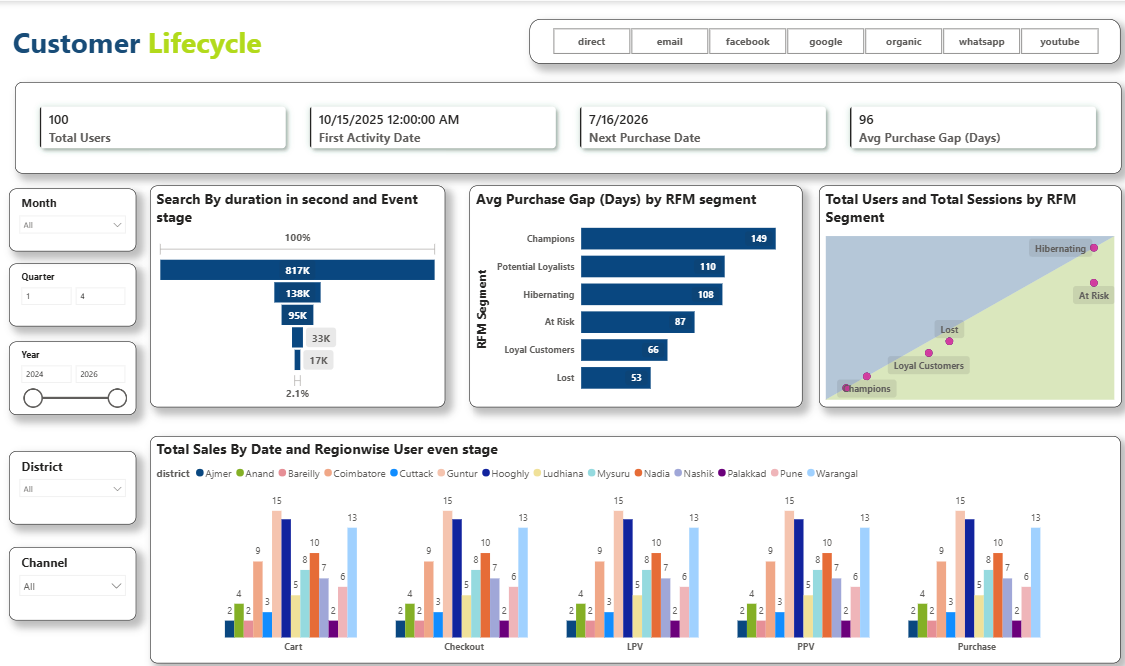

What the dashboard file says about the page in this screenshot:
{"tool":"powerbi","page":{"name":"Customer Lifecycle","canvas":[1500,900],"ordinal":1},"visuals":[{"type":"cardVisual","fields":{"Data":["All Measures.Total Users","All Measures.First Activity Date","All Measures.Next Purchase Date","All Measures.Avg Purchase Gap (Days)"]},"box":[19,106.8,1466.8,121],"z":0},{"type":"textbox","box":[11.9,23.9,648.2,77.5],"z":1000},{"type":"scatterChart","title":"Total Users and Total Sessions by RFM Segment","fields":{"Category":["dim_customers.rfm_segment"],"Series":["dim_utm_metadata.channel_grouping"],"X":["All Measures.Total Users"],"Y":["All Measures.Total Sessions"]},"box":[1084.7,244.5,401.1,294.3],"z":2000},{"type":"barChart","title":"Avg Purchase Gap (Days) by RFM segment","fields":{"Y":["All Measures.Avg Purchase Gap (Days)"],"Category":["dim_customers.rfm_segment"]},"box":[621.8,244.5,441.5,294.3],"z":3000},{"type":"clusteredColumnChart","title":"Total Sales By Date and Regionwise User even stage","fields":{"Category":["fact_user_behavior.event_stage","dim_calendar.month_name"],"Series":["dim_geospatial_market.district"],"Y":["All Measures.Total Users"]},"box":[199.4,576.7,1286.4,301.4],"z":4000},{"type":"funnel","title":"Search By duration in second and Event stage","fields":{"Category":["fact_user_behavior.event_stage"],"Y":["Sum(fact_user_behavior.duration_seconds)"]},"box":[199.4,244.5,391.6,294.3],"z":5000},{"type":"slicer","fields":{"Values":["dim_calendar.year"]},"box":[11.9,450.9,168.5,97.3],"z":6000},{"type":"slicer","fields":{"Values":["dim_calendar.quarter"]},"box":[11.9,348.9,168.5,83.1],"z":7000},{"type":"slicer","fields":{"Values":["dim_geospatial_market.district"]},"box":[11.9,595.7,168.5,97.3],"z":8000},{"type":"slicer","fields":{"Values":["dim_calendar.month_name"]},"box":[11.9,249.2,168.5,83.1],"z":9000},{"type":"slicer","fields":{"Values":["dim_utm_metadata.channel_grouping"]},"box":[11.9,723.9,168.5,97.3],"z":10000},{"type":"slicer","fields":{"Values":["dim_utm_metadata.Source"]},"box":[701.9,23.9,783.4,59.6],"z":11000}]}

Visuals, with their boxes in screenshot pixels (x1, y1, x2, y2), scaled from the page's 1500x900 canvas onto the 1125x666 screenshot:
cardVisual - All Measures.Total Users x All Measures.First Activity Date: region(14, 79, 1114, 169)
textbox: region(9, 18, 495, 75)
"Total Users and Total Sessions by RFM Segment" scatterChart: region(814, 181, 1114, 399)
"Avg Purchase Gap (Days) by RFM segment" barChart: region(466, 181, 797, 399)
"Total Sales By Date and Regionwise User even stage" clusteredColumnChart: region(150, 427, 1114, 650)
"Search By duration in second and Event stage" funnel: region(150, 181, 443, 399)
slicer - dim_calendar.year: region(9, 334, 135, 406)
slicer - dim_calendar.quarter: region(9, 258, 135, 320)
slicer - dim_geospatial_market.district: region(9, 441, 135, 513)
slicer - dim_calendar.month_name: region(9, 184, 135, 246)
slicer - dim_utm_metadata.channel_grouping: region(9, 536, 135, 608)
slicer - dim_utm_metadata.Source: region(526, 18, 1114, 62)
